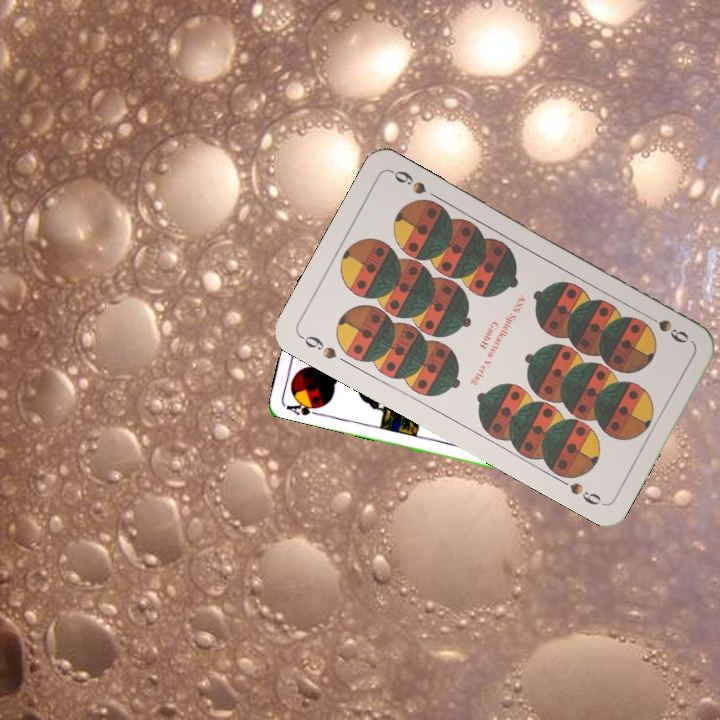S9: (640, 309, 692, 346), (296, 331, 340, 362)
SA: (282, 397, 323, 418)
